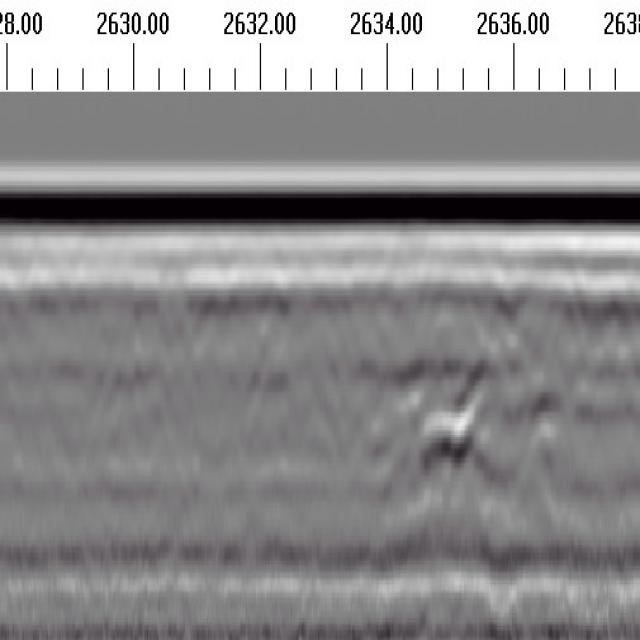loose: (398, 346, 565, 485)
